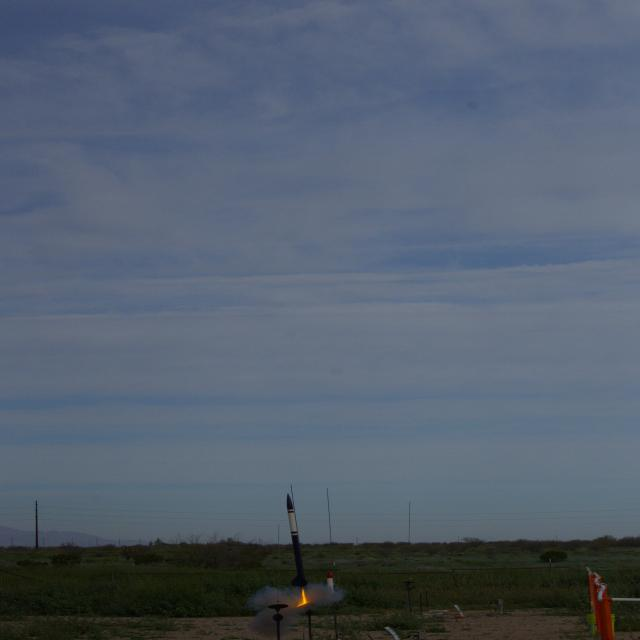Rocket: (286, 493, 310, 587), (320, 571, 342, 601)
